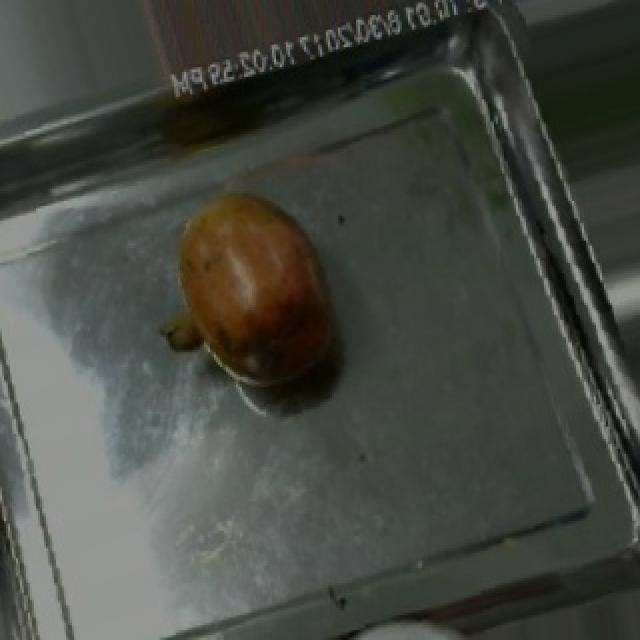fruit: (144, 164, 356, 422), (122, 0, 360, 104)
